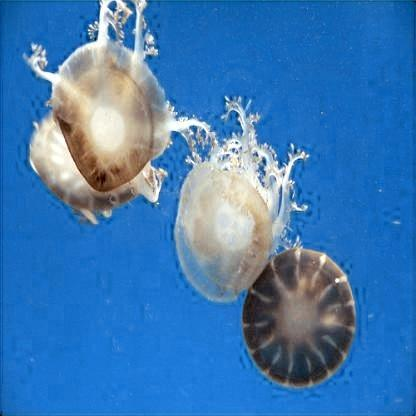Fish: (25, 0, 215, 189), (179, 99, 305, 303), (243, 246, 357, 390), (32, 109, 162, 221)
